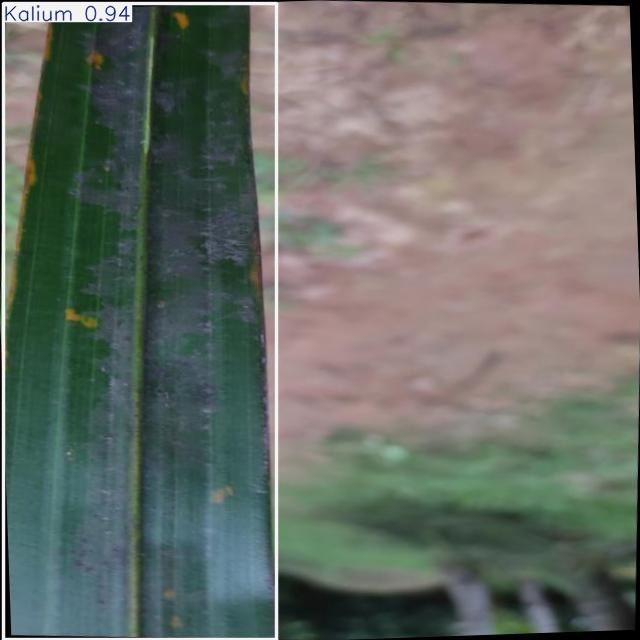Kalium: (3, 3, 276, 639)
